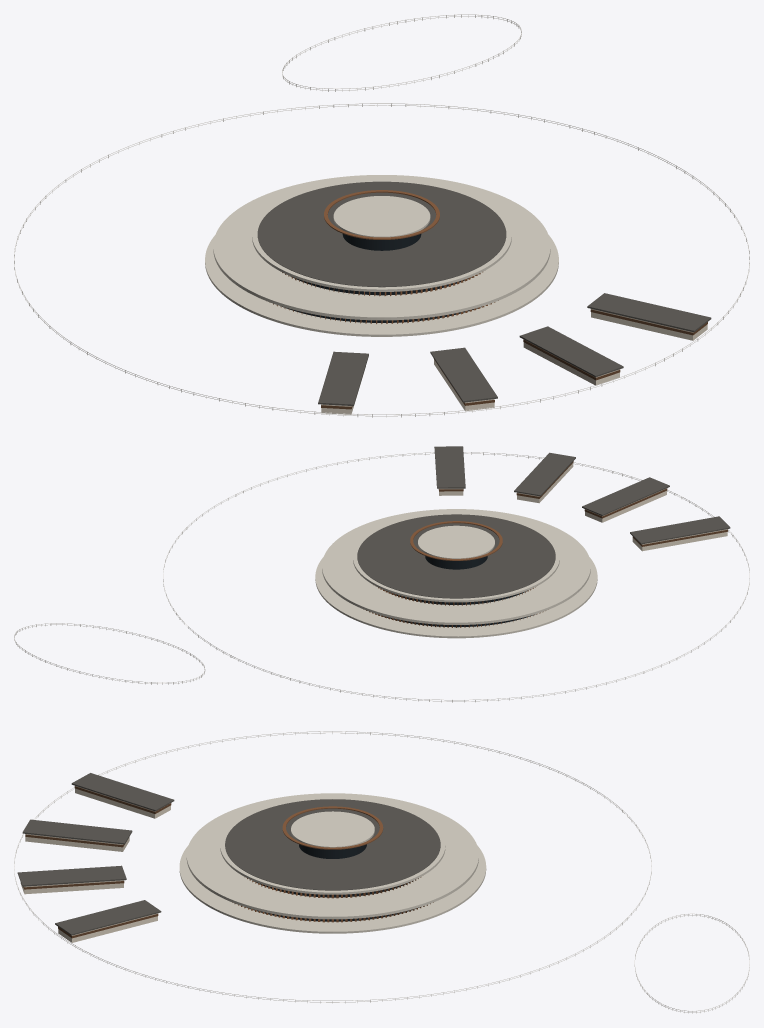
File: origins-academy.glb
The picture shows the model from 3 angles, top to bottom: view 1: azimuth 30°, elevation 25°; view 2: azimuth 150°, elevation 25°; view 3: azimuth 270°, elevation 25°; orthographic projection. The views are drawn at different scales.
Visible parts, largest first — view 1: Roof_Garden, Tier1_Eave, Podium, TrackFence, Drum_Cap, Tier2_Eave, StableRoof_0, StableRoof_1, StableRoof_2, StableRoof_3, ArenaFence, Drum_Ring (+2 smaller); view 2: Roof_Garden, Tier1_Eave, Podium, TrackFence, Drum_Cap, Tier2_Eave, StableRoof_3, StableRoof_2, StableRoof_1, StableRoof_0, ArenaFence, Drum_Ring (+4 smaller); view 3: Roof_Garden, Tier1_Eave, Podium, TrackFence, Drum_Cap, Tier2_Eave, StableRoof_1, StableRoof_2, StableRoof_0, StableRoof_3, Drum_Ring, Fins (+6 smaller).
Part boxes in pixels (box(x1,y1,x2,y2)): Roof_Garden: box(257, 181, 506, 287); Tier1_Eave: box(213, 175, 550, 320); Podium: box(205, 235, 558, 336); TrackFence: box(14, 103, 749, 417); Drum_Cap: box(333, 196, 430, 237); Tier2_Eave: box(252, 179, 511, 291); StableRoof_0: box(587, 293, 711, 332); StableRoof_1: box(519, 326, 623, 377); StableRoof_2: box(430, 347, 497, 402); StableRoof_3: box(318, 351, 368, 405); ArenaFence: box(282, 14, 521, 91); Drum_Ring: box(324, 190, 439, 239); Roof_Garden: box(357, 514, 555, 598); Tier1_Eave: box(322, 509, 590, 624); Podium: box(315, 557, 597, 638); TrackFence: box(163, 452, 749, 702); Drum_Cap: box(418, 525, 494, 558); Tier2_Eave: box(353, 513, 559, 602); StableRoof_3: box(630, 516, 730, 544); StableRoof_2: box(582, 477, 669, 515); StableRoof_1: box(514, 452, 575, 496); StableRoof_0: box(434, 446, 465, 488); ArenaFence: box(14, 623, 205, 684); Drum_Ring: box(410, 521, 502, 560); Roof_Garden: box(225, 799, 440, 890); Tier1_Eave: box(186, 793, 478, 919); Podium: box(179, 845, 486, 933); TrackFence: box(14, 731, 651, 1003); Drum_Cap: box(291, 811, 374, 847); Tier2_Eave: box(220, 797, 445, 894); StableRoof_1: box(17, 865, 126, 886); StableRoof_2: box(22, 819, 132, 844); StableRoof_0: box(55, 900, 161, 935); StableRoof_3: box(71, 773, 174, 811); Drum_Ring: box(282, 806, 383, 849); Fins: box(232, 877, 433, 922).
Size of the model in its own units: 276 by 19 by 307.
